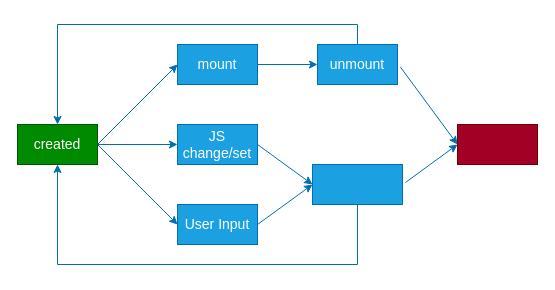
Some shapes in this 555 by 290 pixel diagram are drawn without their labels. The centre of each missing label's shape, as x and y in pixels:
destroyed: point 497,144
render/update: point 357,184
